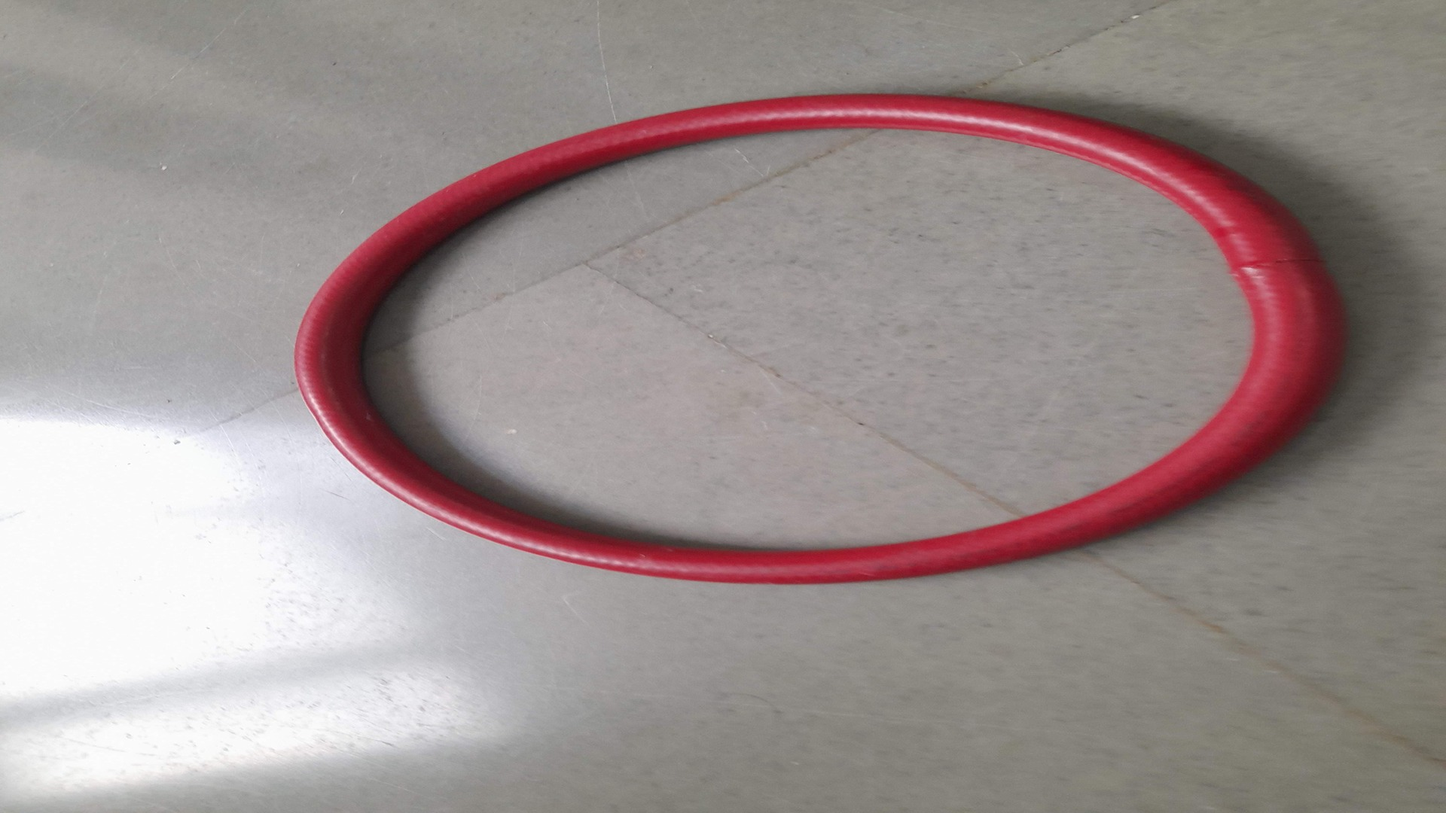Red ring: (290, 95, 1335, 579)
